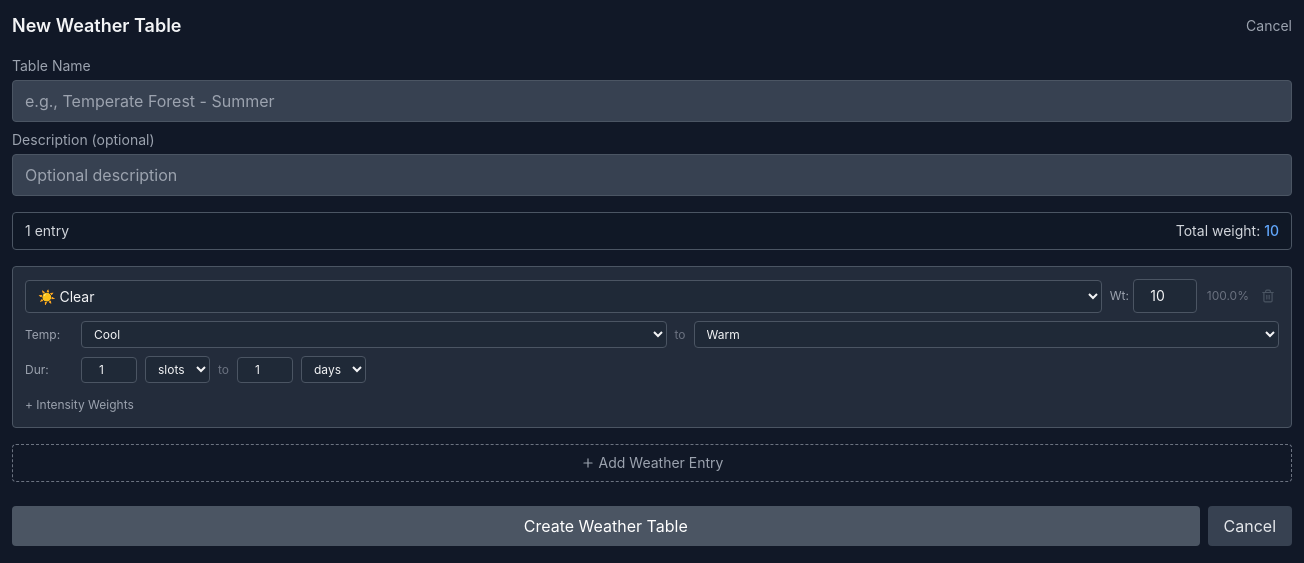
Test case: WeatherTableEditor › should enable save when name is provided and entries exist
The width and height of the screenshot is (1304, 563).
Type "Test Table" into the field with placeholder "e.g., Temperate Forest - Summer" at coordinates (652, 101), box [12,80,1292,122]
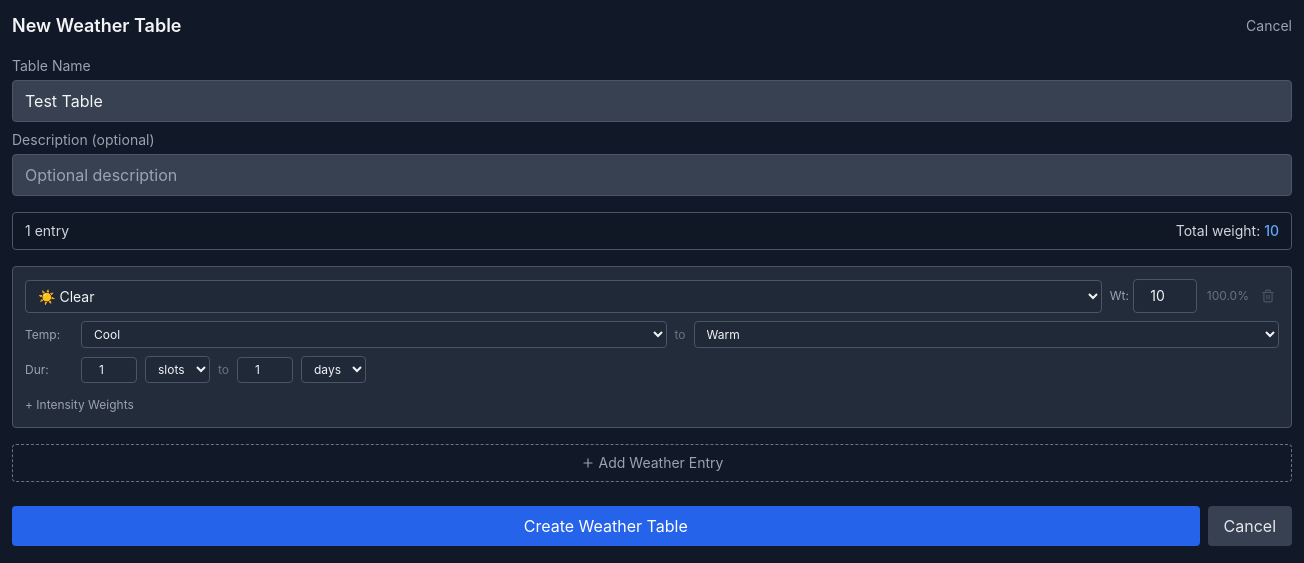
Check: the button "Create Weather Table" is enabled, box [12,506,1200,546]
